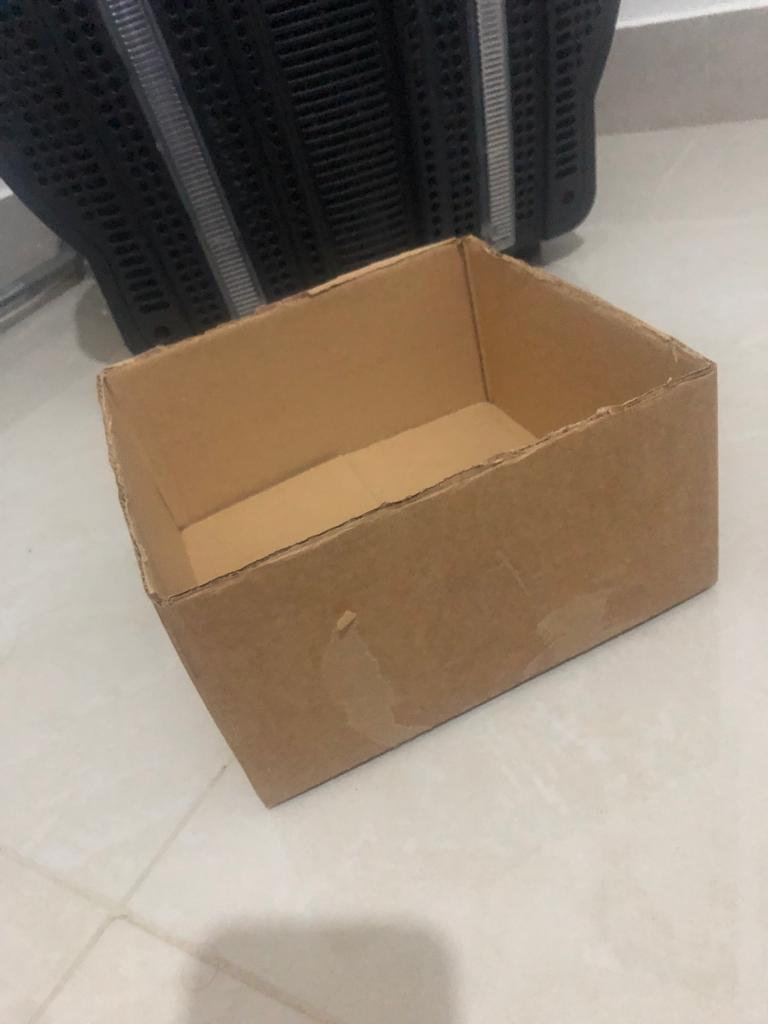CBox: (83, 227, 727, 805)
